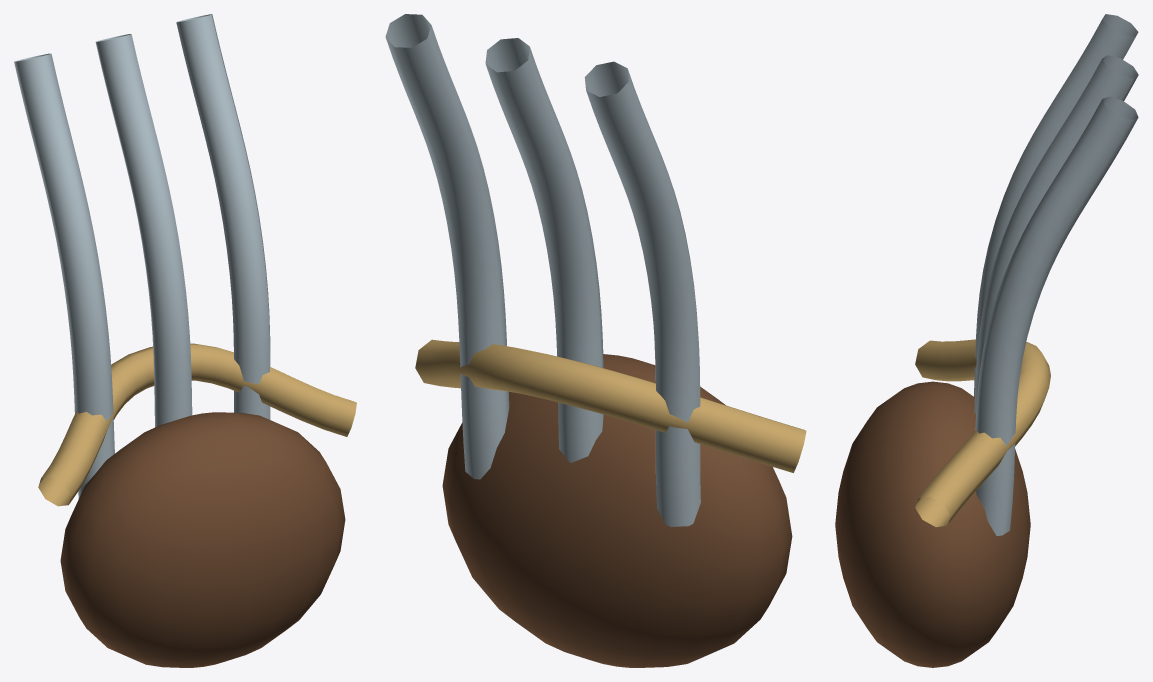
File: traveler_claws.glb
3 renders of one model, left to right at view 1: azimuth 30°, elevation 25°; view 2: azimuth 150°, elevation 25°; view 3: azimuth 270°, elevation 25°, orthographic. The views are drawn at different scales.
Parts seen in each view (by area): view 1: Claw gauntlet, Curved talon, Curved talon.001, Curved talon.002, Knuckle guard; view 2: Claw gauntlet, Curved talon, Curved talon.002, Curved talon.001, Knuckle guard; view 3: Claw gauntlet, Curved talon.002, Knuckle guard, Curved talon.001, Curved talon.
Part boxes in pixels (x1,y1,x2,y2): Claw gauntlet: (60, 412, 345, 667); Curved talon: (14, 53, 114, 498); Curved talon.001: (95, 34, 192, 427); Curved talon.002: (176, 14, 270, 419); Knuckle guard: (38, 343, 356, 506); Claw gauntlet: (442, 354, 792, 667); Curved talon: (584, 61, 700, 526); Curved talon.002: (385, 14, 509, 479); Curved talon.001: (485, 38, 603, 462); Knuckle guard: (415, 339, 806, 472); Claw gauntlet: (835, 381, 1030, 667); Curved talon.002: (975, 96, 1138, 535); Knuckle guard: (915, 339, 1050, 527); Curved talon.001: (974, 55, 1138, 413); Curved talon: (974, 14, 1138, 397).
Size of the model in its own units: 0.4664 by 0.8008 by 0.3725.
